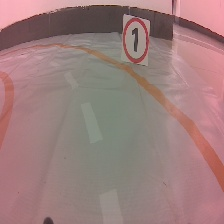limit: (119, 12, 152, 67)
